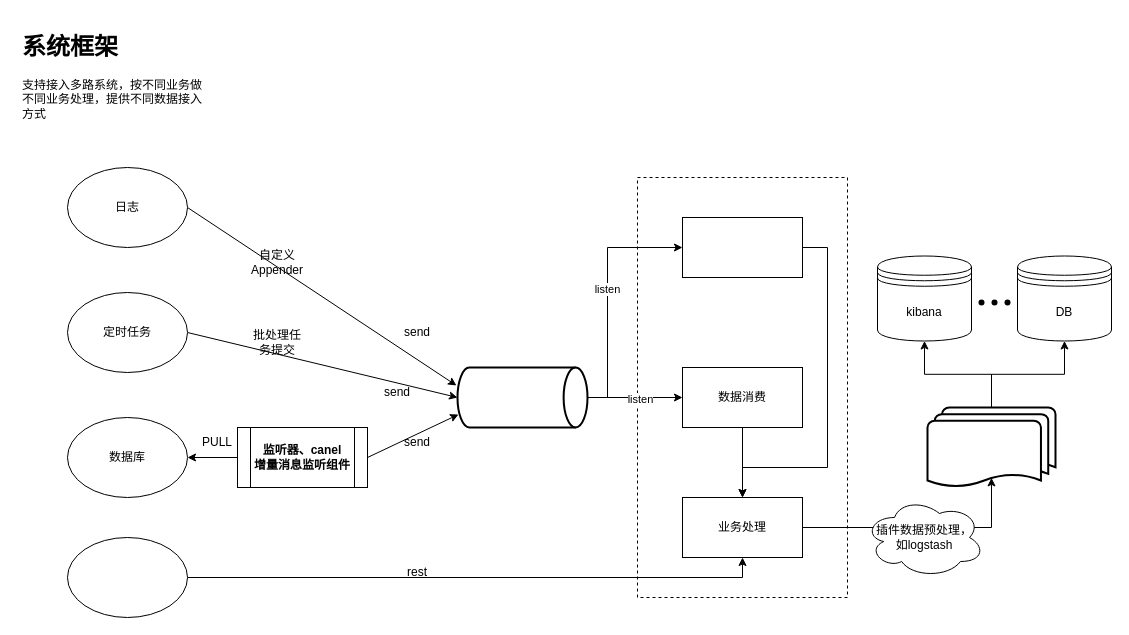
The diagram is 1129 pixels wide and 635 high, and some of its shapes have lost their labels. The shapes that lost their labels are listed below. From the top down, each one's centre as x and y in pixels, then its label:
At pixel 742 247: "日志消费".
At pixel 522 397: "Kafka、MQ".
At pixel 991 447: "ElasticSearch".
At pixel 127 577: "同步数据".
